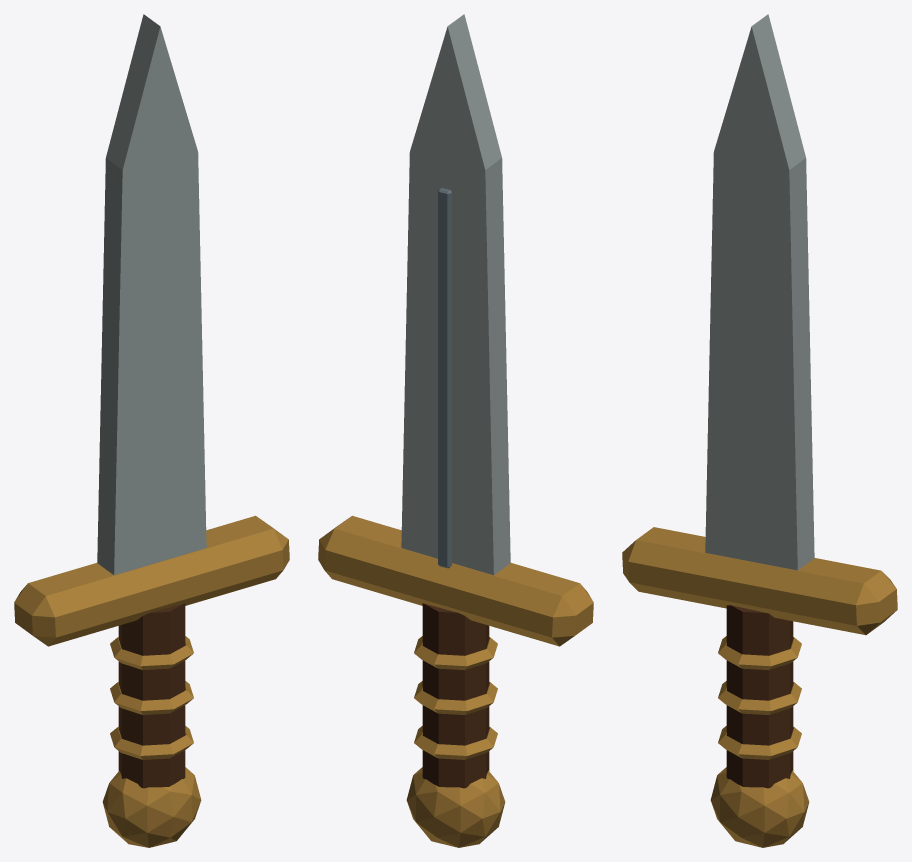
The model's file is Sword.glb.
3 renders of one model, left to right at view 1: azimuth 30°, elevation 25°; view 2: azimuth 150°, elevation 25°; view 3: azimuth 330°, elevation 25°, orthographic.
Parts seen in each view (by area): view 1: Sculpture; view 2: Sculpture; view 3: Sculpture.
Boxes of the visible parts, x1,y1,x2,y2 form: Sculpture: (14,14,289,847); Sculpture: (318,14,593,847); Sculpture: (622,14,897,847).
Bounding box in the file's own units: 0.3008 × 0.919 × 0.088.
